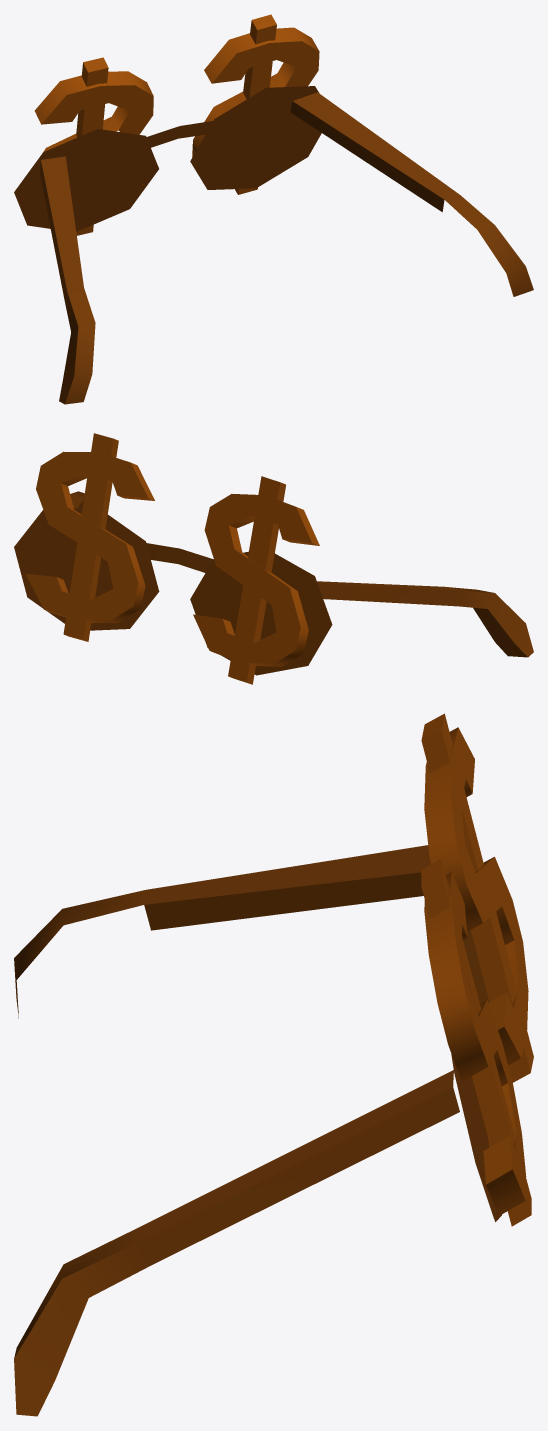
File: hat_GoldenEggTier3.glb
3 renders of one model, top to bottom at view 1: azimuth 30°, elevation 25°; view 2: azimuth 150°, elevation 25°; view 3: azimuth 270°, elevation 25°, orthographic. The views are drawn at different scales.
Visible parts, largest first — view 1: hat_GoldenEggTier3; view 2: hat_GoldenEggTier3; view 3: hat_GoldenEggTier3.
Boxes of the visible parts, left/top/right/bottom form: hat_GoldenEggTier3: left=14, top=14, right=533, bottom=404; hat_GoldenEggTier3: left=14, top=433, right=533, bottom=684; hat_GoldenEggTier3: left=14, top=713, right=533, bottom=1416.
Size of the model in its own units: 0.499 by 0.2334 by 0.2633.
